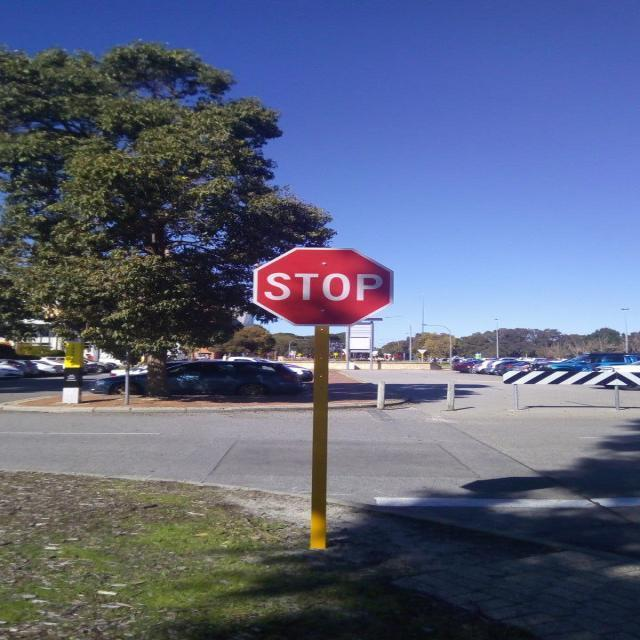stop: (250, 242, 399, 333)
